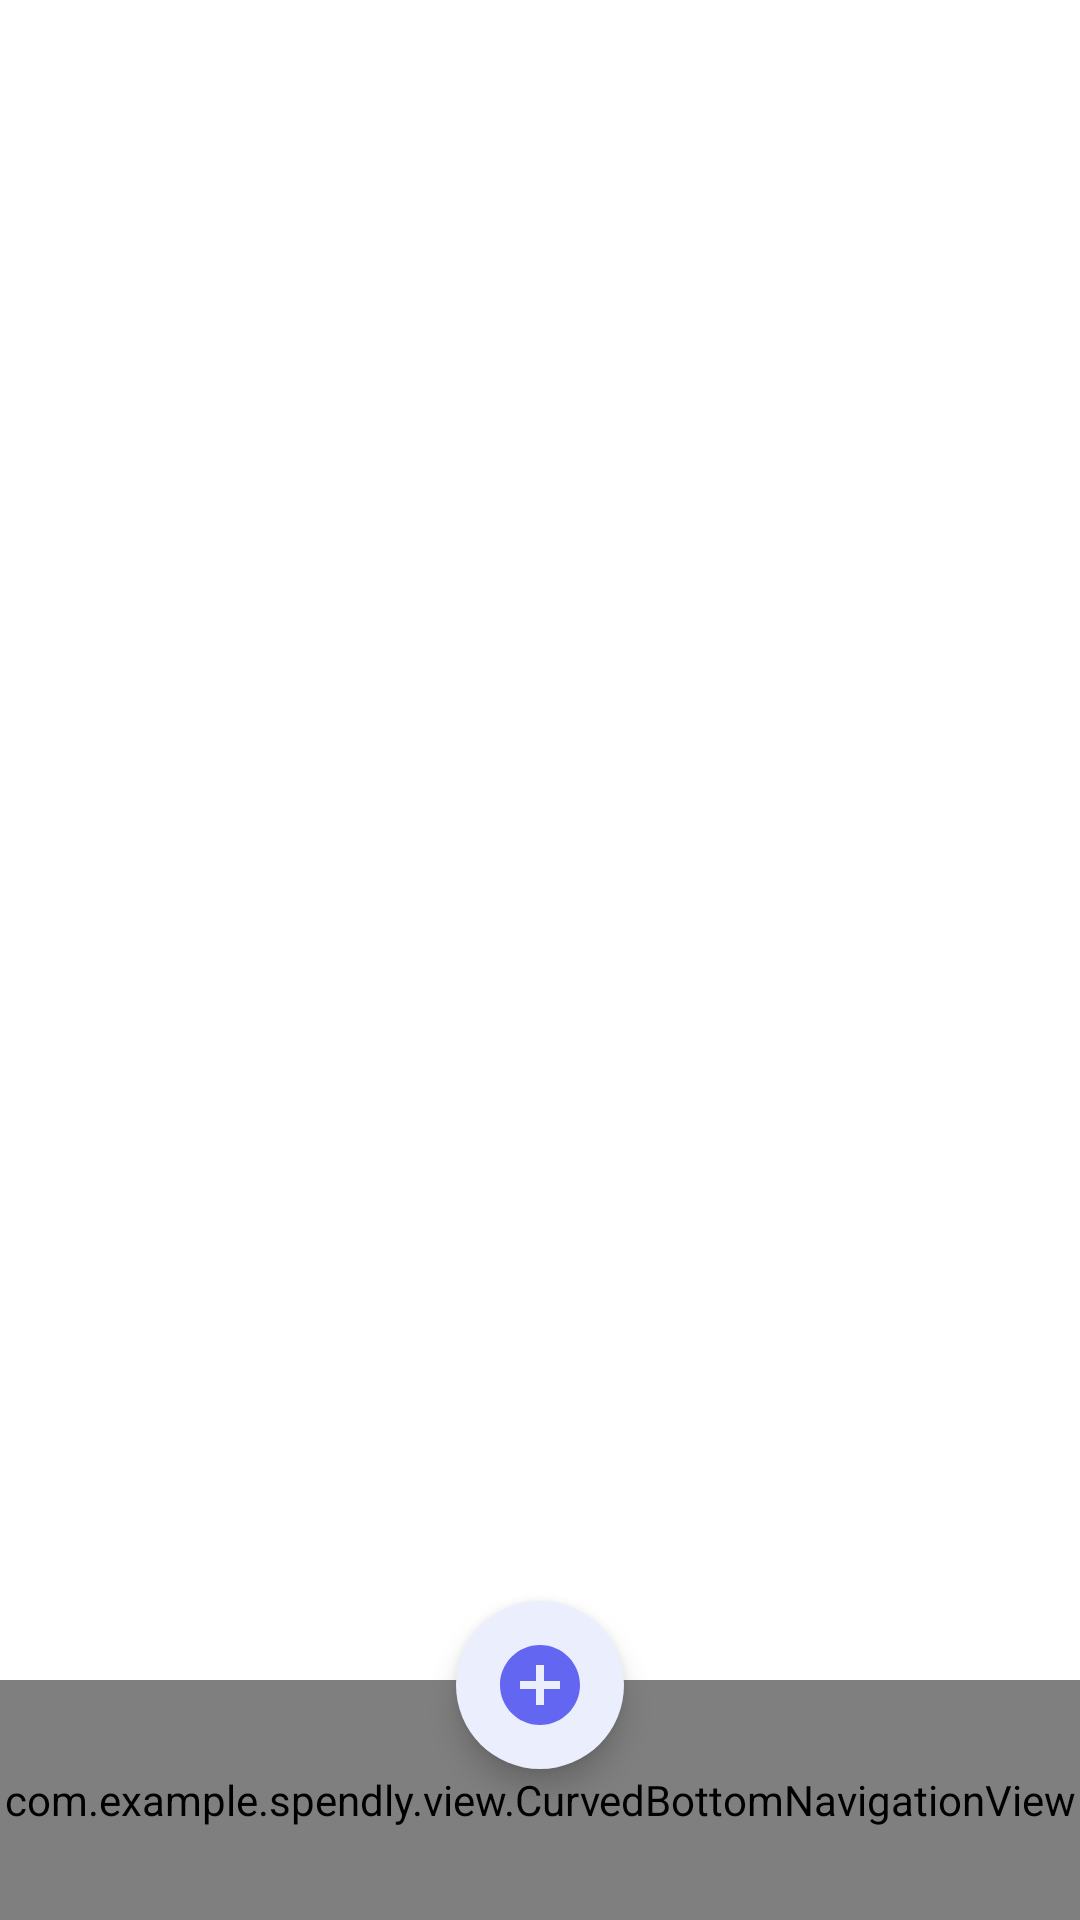

Icons on this 1080 x 1920 Android screen, each with the point to tap as [x,y]:
add: [540,1685]
